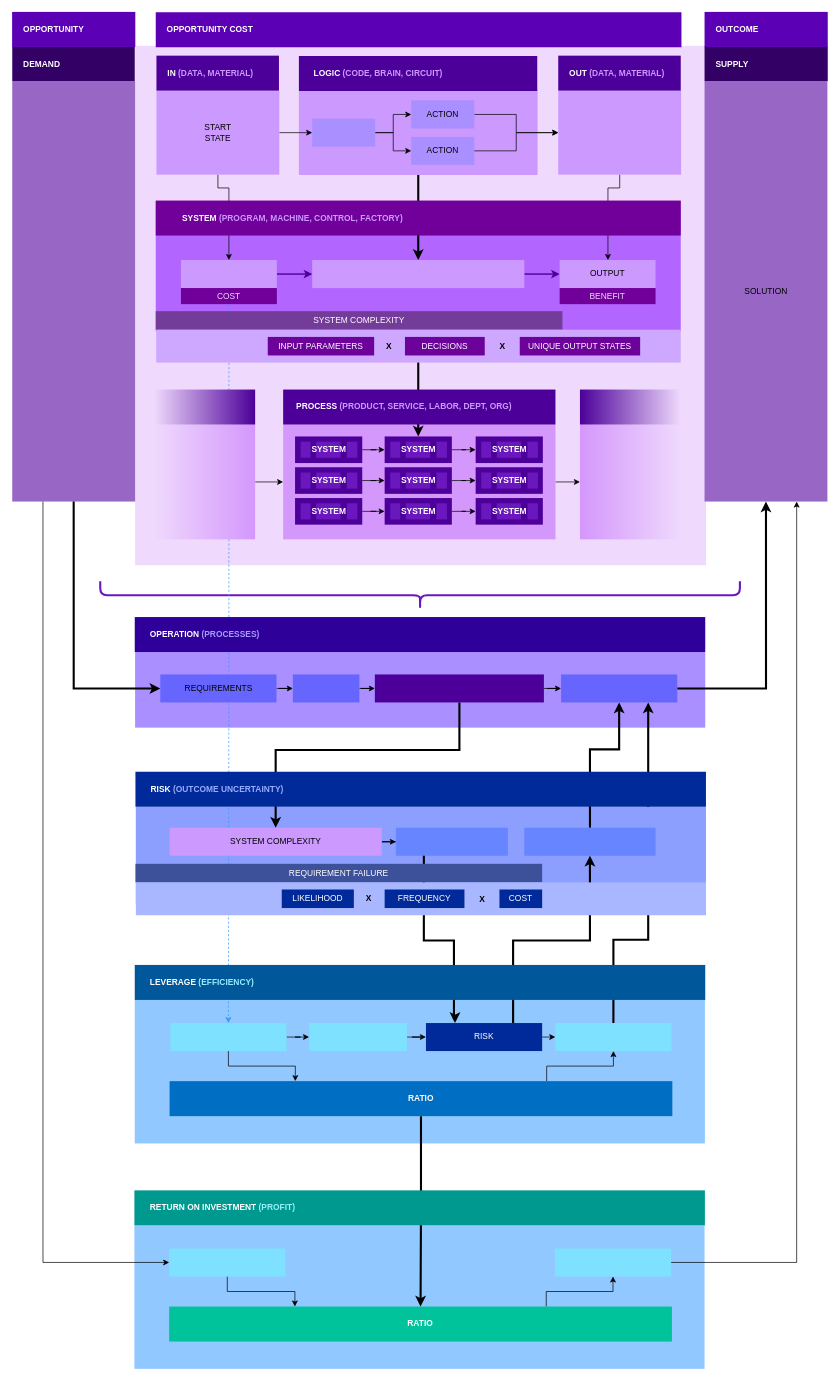
This 840x1381 diagram has some shape labels left out. The shapes that lost their labels are listed below. From the top down, each one's box as (x1, y1, x2, y2) in pixels, then its label:
(312, 118, 375, 146): DECISION
(558, 90, 681, 174): END STATE
(12, 81, 135, 501): PROBLEM
(181, 260, 276, 288): INPUT
(312, 260, 524, 288): FUNCTION
(293, 674, 359, 702): PLAN
(374, 674, 544, 702): PROCESS
(561, 674, 677, 702): RESULT
(396, 827, 507, 855): UNKNOWNS
(524, 827, 655, 855): FAILED REQUIREMENTS
(170, 1023, 286, 1051): INPUT VALUE
(309, 1023, 407, 1051): OPERATIONS
(555, 1023, 671, 1051): OUTPUT VALUE
(169, 1248, 285, 1276): INVESTMENT
(555, 1248, 671, 1276): RETURN
